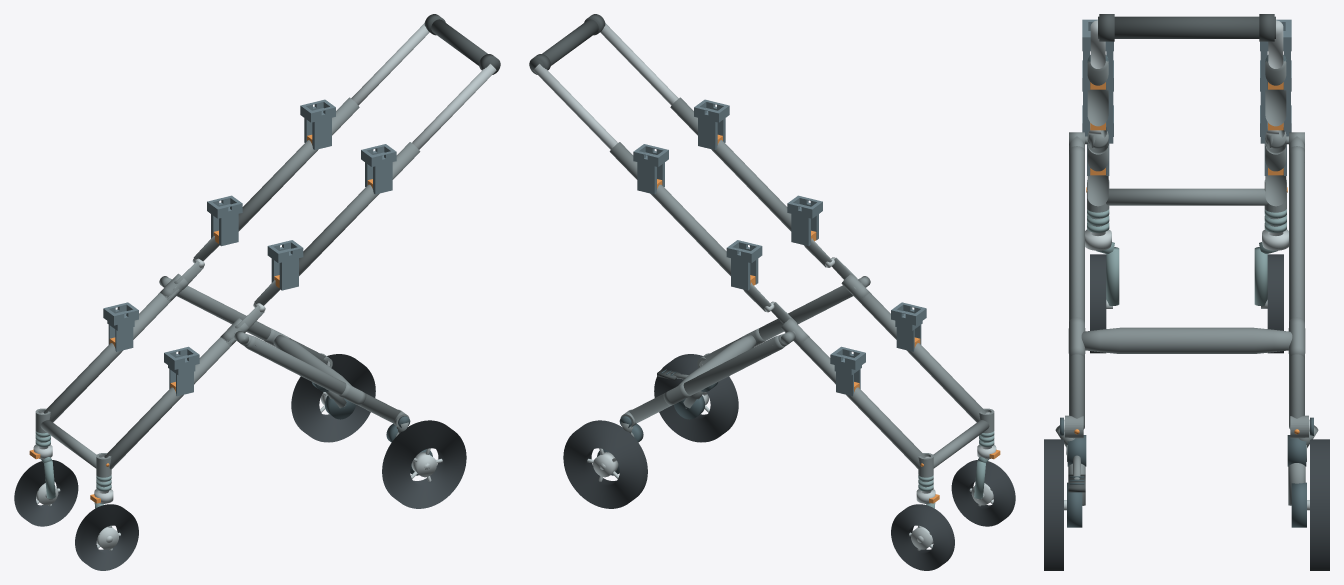
Rendered from w380_state1_wheel_S.glb.
3 renders of one model, left to right at view 1: azimuth 30°, elevation 25°; view 2: azimuth 150°, elevation 25°; view 3: azimuth 270°, elevation 25°, orthographic. The views are drawn at different scales.
Parts seen in each view (by area): view 1: RL_tire.009, RR_tire.009, FL_tire.009, FR_tire.009, main_lower_1, V46_rear_leg_-1.002, main_lower_-1, main_upper_-1, main_upper_1, V46_rear_leg_1.002, Universal_Cabin_Receiver_M_-1, Universal_Cabin_Receiver_H_1 (+9 smaller); view 2: RR_tire.009, RL_tire.009, FR_tire.009, FL_tire.009, main_lower_-1, V46_rear_leg_1.002, main_lower_1, main_upper_1, main_upper_-1, V46_rear_leg_-1.002, Universal_Cabin_Receiver_M_1, Universal_Cabin_Receiver_M_-1 (+9 smaller); view 3: V46_rearbar.002, V46_rear_leg_1.002, V46_rear_leg_-1.002, round_handle.010, front_fixed_round_tube, RL_tire.009, RR_tire.009, FL_tire.009, FR_tire.009, main_upper_1, main_upper_-1, main_lower_1 (+22 smaller).
Boxes of the visible parts, <box> form: RL_tire.009: <box>382,420,466,508</box>; RR_tire.009: <box>291,354,375,442</box>; FL_tire.009: <box>75,504,138,570</box>; FR_tire.009: <box>14,460,78,526</box>; main_lower_1: <box>43,289,179,422</box>; V46_rear_leg_-1.002: <box>245,335,400,423</box>; main_lower_-1: <box>104,337,234,469</box>; main_upper_-1: <box>299,142,420,275</box>; main_upper_1: <box>238,97,359,231</box>; V46_rear_leg_1.002: <box>177,285,328,364</box>; Universal_Cabin_Receiver_M_-1: <box>267,240,303,290</box>; Universal_Cabin_Receiver_H_1: <box>300,99,335,149</box>; RR_tire.009: <box>563,420,647,508</box>; RL_tire.009: <box>654,354,738,442</box>; FR_tire.009: <box>891,504,954,570</box>; FL_tire.009: <box>951,460,1015,526</box>; main_lower_-1: <box>850,289,986,422</box>; V46_rear_leg_1.002: <box>629,335,784,423</box>; main_lower_1: <box>795,337,925,469</box>; main_upper_1: <box>609,142,730,275</box>; main_upper_-1: <box>670,97,791,231</box>; V46_rear_leg_-1.002: <box>701,285,852,364</box>; Universal_Cabin_Receiver_M_1: <box>726,240,762,290</box>; Universal_Cabin_Receiver_M_-1: <box>787,195,822,246</box>; V46_rearbar.002: <box>1081,327,1292,353</box>; V46_rear_leg_1.002: <box>1289,146,1304,429</box>; V46_rear_leg_-1.002: <box>1069,146,1084,429</box>; round_handle.010: <box>1098,16,1275,38</box>; front_fixed_round_tube: <box>1106,188,1267,205</box>; RL_tire.009: <box>1044,439,1063,570</box>; RR_tire.009: <box>1310,439,1329,570</box>; FL_tire.009: <box>1090,254,1106,353</box>; FR_tire.009: <box>1267,254,1283,353</box>; main_upper_1: <box>1265,55,1286,126</box>; main_upper_-1: <box>1087,55,1108,126</box>; main_lower_1: <box>1265,145,1286,206</box>.
Bounding box in the file's own units: 1.09 × 1.02 × 0.434.
